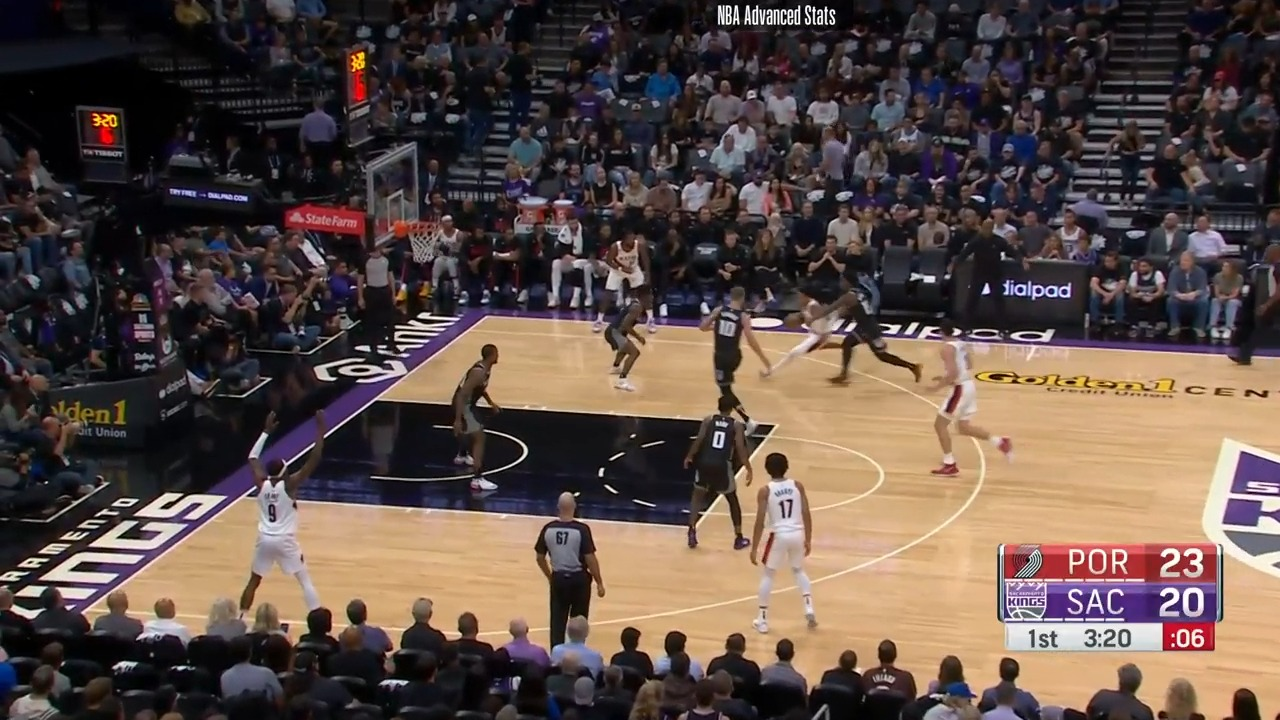net: (393, 217, 451, 265)
player: (236, 425, 335, 625), (917, 316, 1013, 479), (742, 450, 818, 639), (808, 262, 919, 389), (681, 392, 755, 555), (699, 282, 772, 430), (770, 278, 862, 386), (443, 341, 502, 500), (596, 229, 661, 341), (592, 289, 656, 399)
referee: (532, 488, 606, 647), (1230, 241, 1280, 370), (351, 244, 400, 363)
